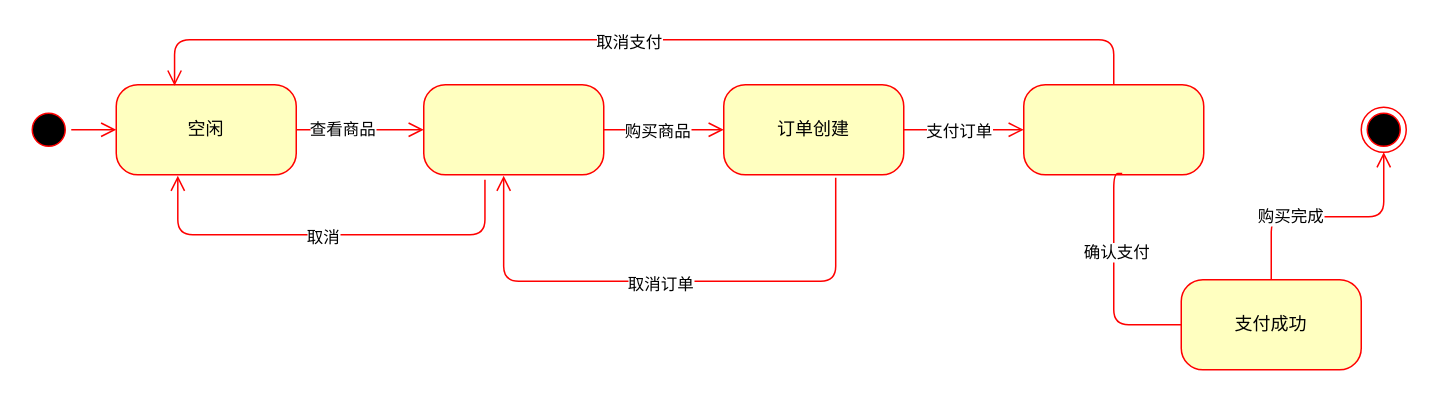
Image size: 1433x396. Some labels were removed from this diagram. The centre of each missing label's shape, as x and y in pixels:
支付: the point at 1113,129
查看信息: the point at 513,129
